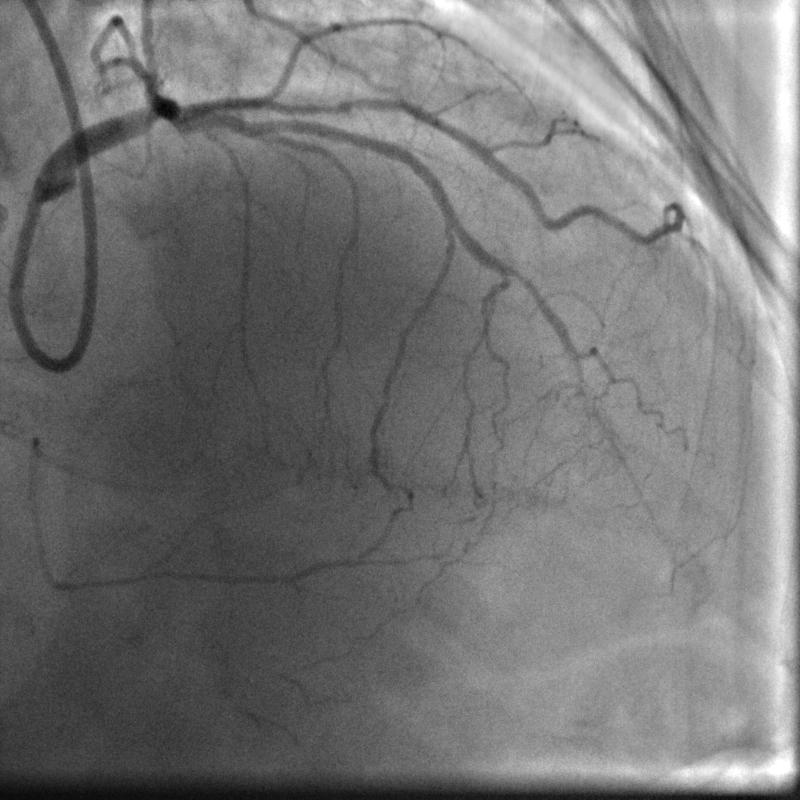Stenosis: (125, 94, 172, 139)
